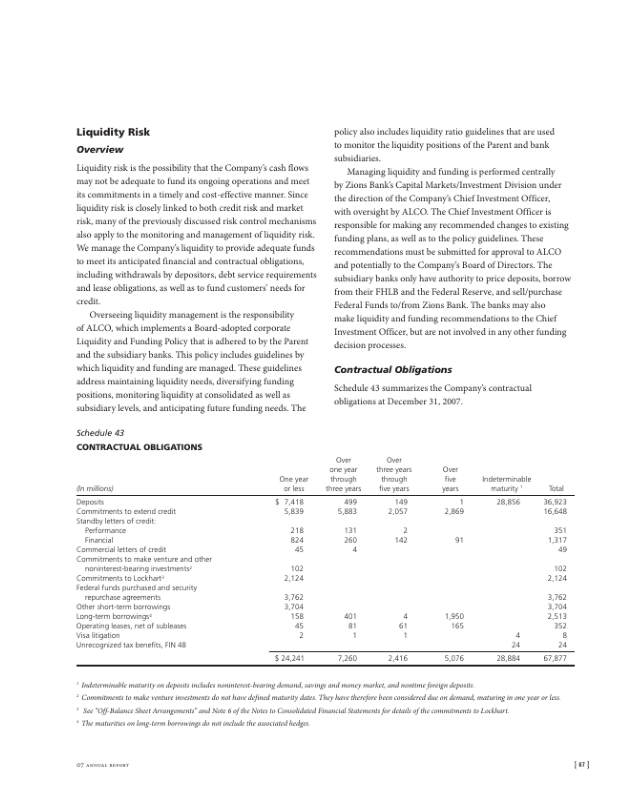table: (74, 456, 580, 670)
